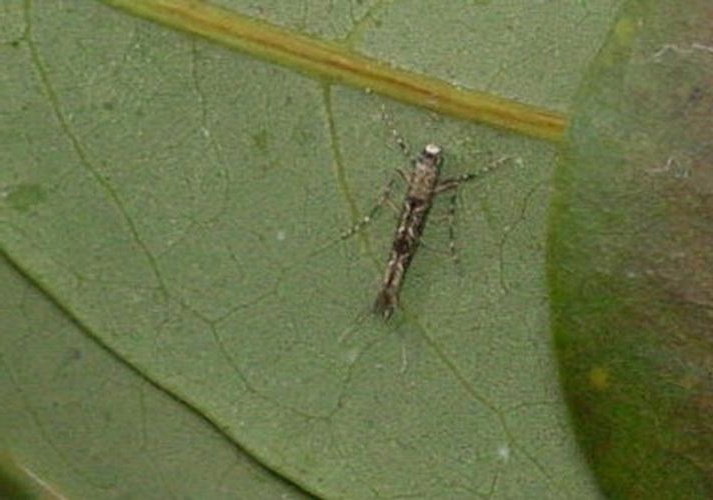Borer: (351, 121, 487, 328)
